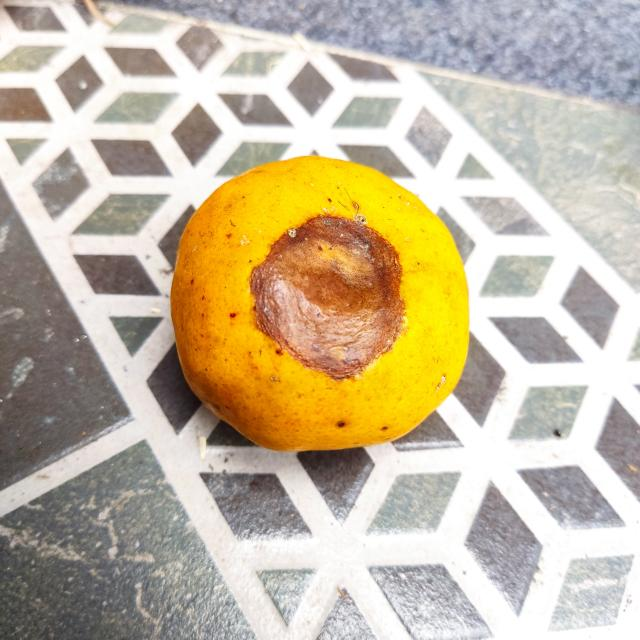orange: (169, 155, 472, 451)
